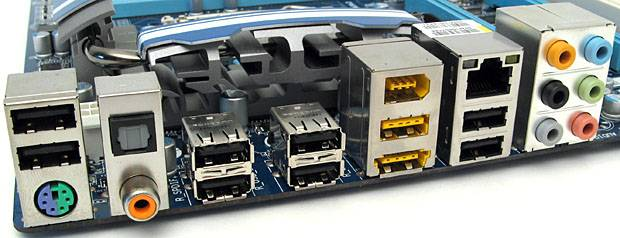Audio: (535, 75, 572, 111), (582, 32, 614, 69), (545, 37, 576, 71), (534, 117, 566, 148), (578, 77, 604, 107)
Ethernet: (464, 59, 520, 104)
USB: (1, 107, 83, 137), (7, 143, 86, 173), (371, 116, 445, 143), (458, 104, 518, 134), (455, 134, 513, 160)
